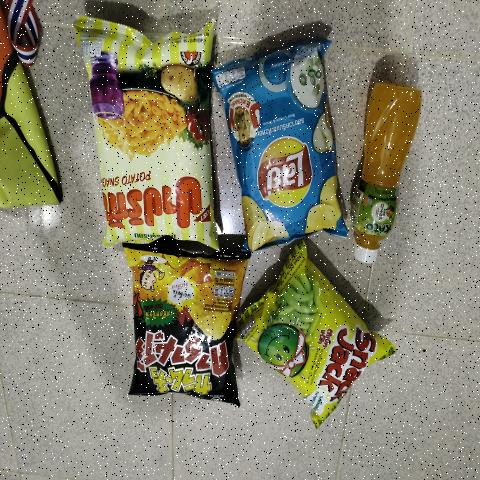karamujo: (136, 255, 228, 403)
lay_blue: (228, 55, 338, 231)
paprika: (88, 23, 211, 241)
snack_jack: (253, 261, 367, 404)
